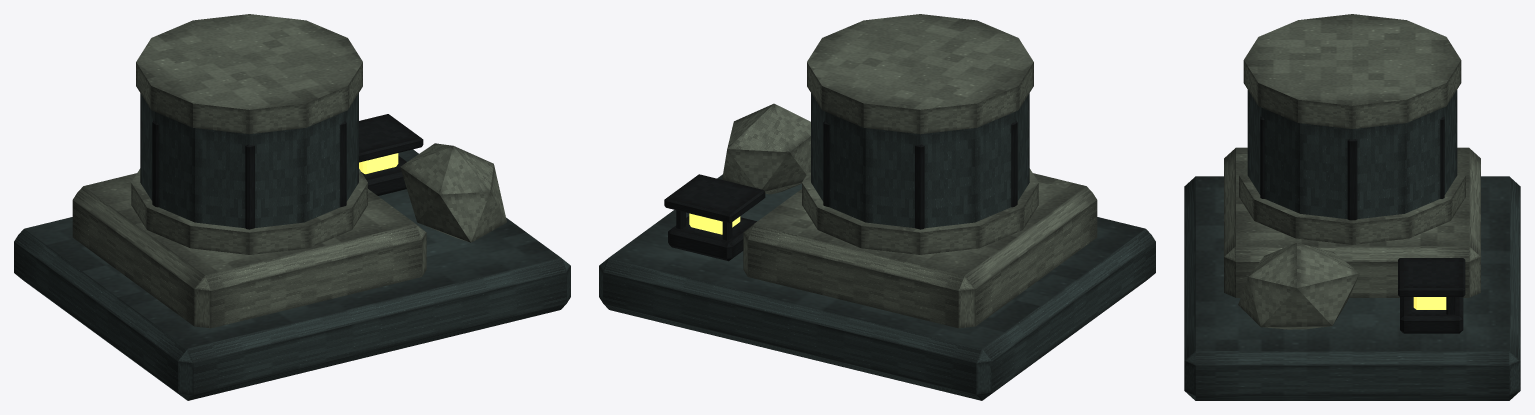
The model's file is THStage_Bay_06_ColumnStump.fbx.
3 renders of one model, left to right at view 1: azimuth 30°, elevation 25°; view 2: azimuth 150°, elevation 25°; view 3: azimuth 270°, elevation 25°, orthographic. The views are drawn at different scales.
Visible parts, largest first — view 1: THStage_Bay_06_ColumnStump.010; view 2: THStage_Bay_06_ColumnStump.010; view 3: THStage_Bay_06_ColumnStump.010.
Part boxes in pixels (bbox=[...]): THStage_Bay_06_ColumnStump.010: bbox=[14, 14, 570, 400]; THStage_Bay_06_ColumnStump.010: bbox=[599, 14, 1155, 400]; THStage_Bay_06_ColumnStump.010: bbox=[1184, 14, 1520, 400].
Bounding box in the file's own units: 1.1 × 0.6525 × 0.85.
Materials: 2 (1 with a texture image).
